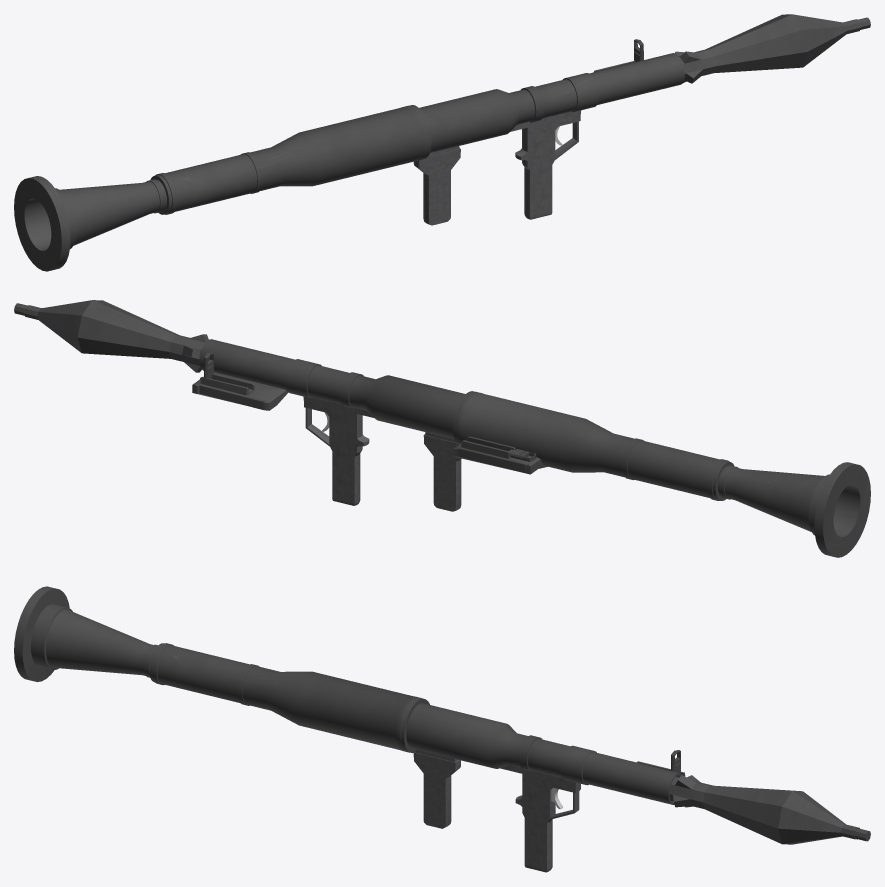
The model's file is RPG_Final 1.fbx.
The picture shows the model from 3 angles, top to bottom: view 1: azimuth 30°, elevation 25°; view 2: azimuth 150°, elevation 25°; view 3: azimuth 330°, elevation 25°; orthographic projection.
Visible parts, largest first — view 1: RPG, MunicaoRPG, RPG.ApoioD, RPG.ApoioT; view 2: RPG, MunicaoRPG, RPG.ApoioD, RPG.ApoioT; view 3: RPG, MunicaoRPG, RPG.ApoioD, RPG.ApoioT.
Boxes of the visible parts, box(x1,y1,x2,y2) form: RPG: box(14, 39, 684, 271); MunicaoRPG: box(675, 14, 870, 83); RPG.ApoioD: box(510, 110, 581, 219); RPG.ApoioT: box(413, 146, 460, 225); RPG: box(192, 339, 870, 557); MunicaoRPG: box(14, 300, 208, 372); RPG.ApoioD: box(303, 396, 373, 505); RPG.ApoioT: box(423, 432, 461, 511); RPG: box(14, 586, 685, 804); MunicaoRPG: box(669, 775, 870, 844); RPG.ApoioD: box(500, 765, 580, 872); RPG.ApoioT: box(413, 749, 460, 828).
Size of the model in its own units: 122 by 21.89 by 12.23.
